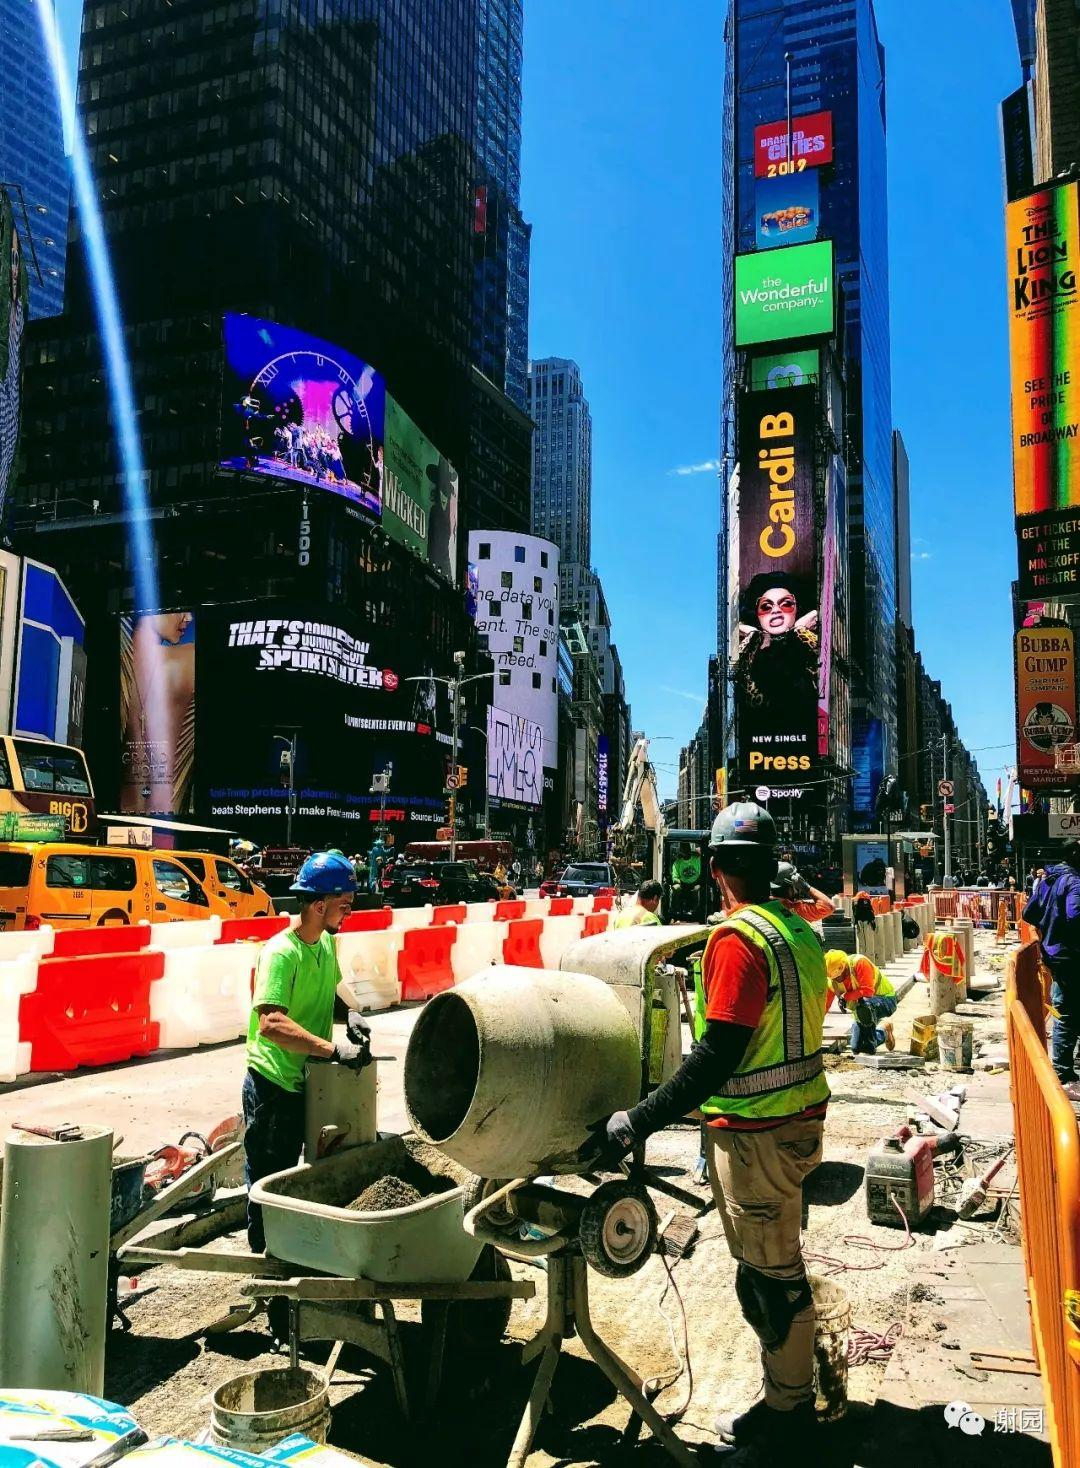helmet: (702, 798, 797, 867), (297, 850, 370, 910), (811, 951, 852, 980)
